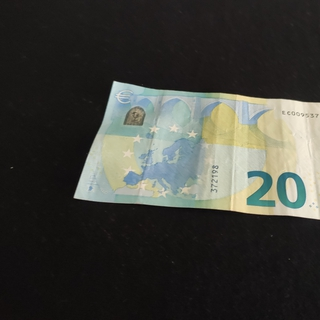20EUROBack: (72, 81, 320, 225)
